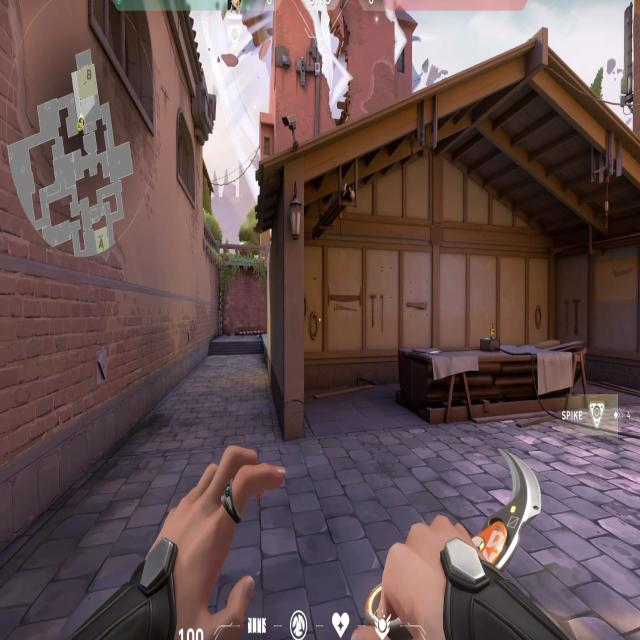B_Garage_Left: (251, 181, 389, 427)
B_Garage_Right: (518, 220, 640, 414)
Throwables: (81, 0, 173, 141), (170, 92, 202, 214)
